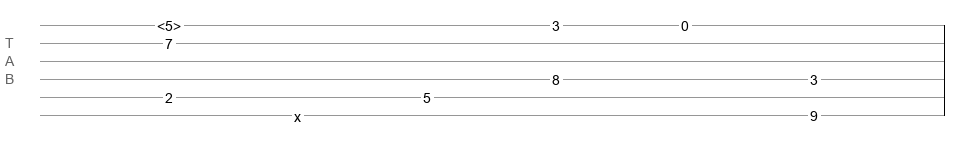0: (681, 18, 689, 28)
2: (165, 90, 173, 100)
3: (552, 18, 560, 28), (810, 72, 818, 82)
5: (423, 90, 431, 100)
7: (165, 36, 173, 46)
8: (552, 72, 560, 82)
9: (810, 108, 818, 118)
harmonic: (157, 18, 181, 28)
x: (294, 109, 301, 117)
